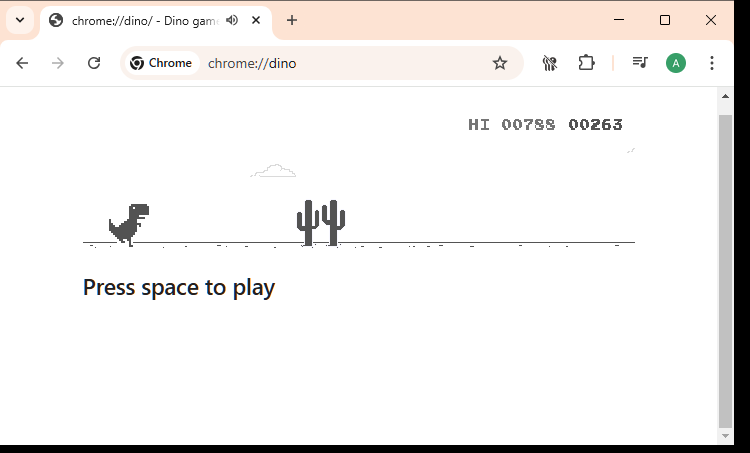cactus: (321, 199, 346, 247), (296, 199, 320, 247)
dino: (108, 203, 150, 248)
